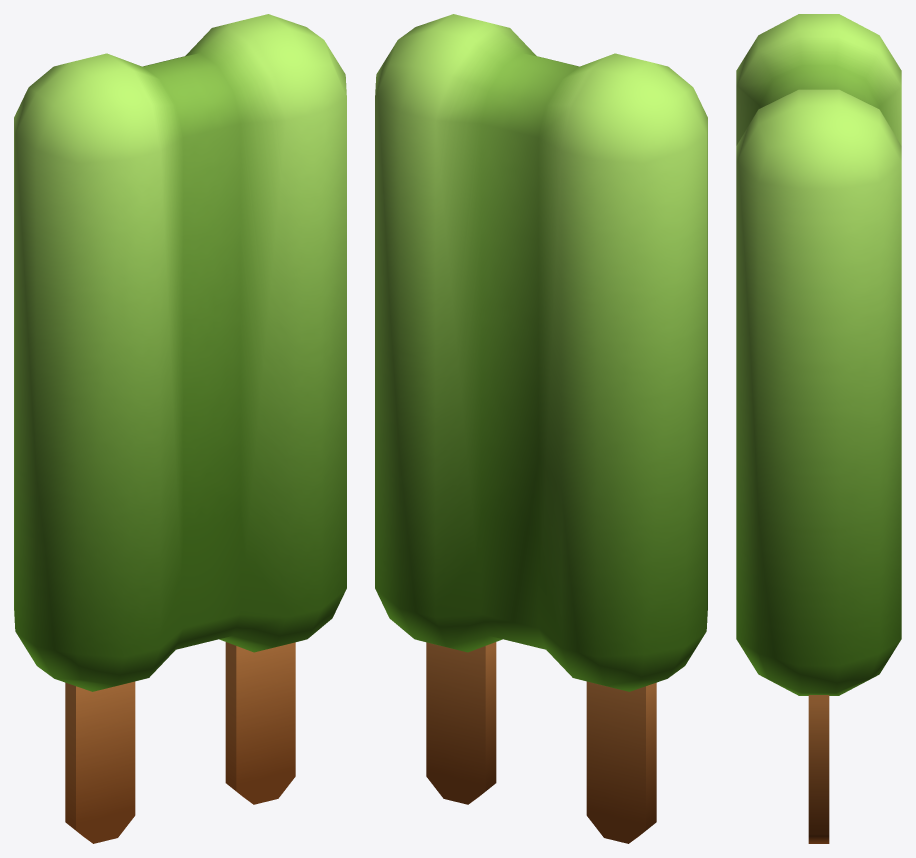
File: m_DoublePopsicle05.fbx
The picture shows the model from 3 angles, left to right: view 1: azimuth 30°, elevation 25°; view 2: azimuth 150°, elevation 25°; view 3: azimuth 270°, elevation 25°; orthographic projection. The views are drawn at different scales.
Visible parts, largest first — view 1: m_DoublePopsicle05_L, m_DoublePopsicle05_R; view 2: m_DoublePopsicle05_L, m_DoublePopsicle05_R; view 3: m_DoublePopsicle05_R, m_DoublePopsicle05_L.
Boxes of the visible parts, box(x1,y1,x2,y2) form: m_DoublePopsicle05_L: box(14, 53, 211, 843); m_DoublePopsicle05_R: box(159, 14, 346, 804); m_DoublePopsicle05_L: box(510, 53, 707, 843); m_DoublePopsicle05_R: box(375, 14, 562, 804); m_DoublePopsicle05_R: box(736, 80, 901, 843); m_DoublePopsicle05_L: box(736, 14, 901, 145).
Size of the model in its own units: 9.64 by 22.99 by 4.64.
